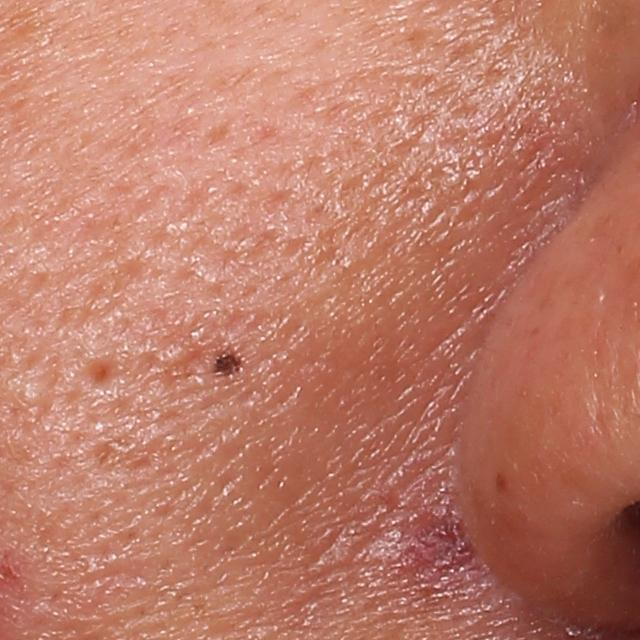atrophic_scar: (82, 351, 123, 396)
nevus: (213, 350, 243, 378)
